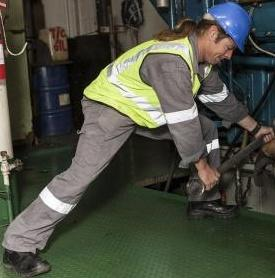boots: (2, 246, 50, 277), (187, 198, 239, 220)
gloves: (253, 149, 275, 175)
hard-hat: (207, 1, 252, 54)
vest: (86, 32, 215, 132)
